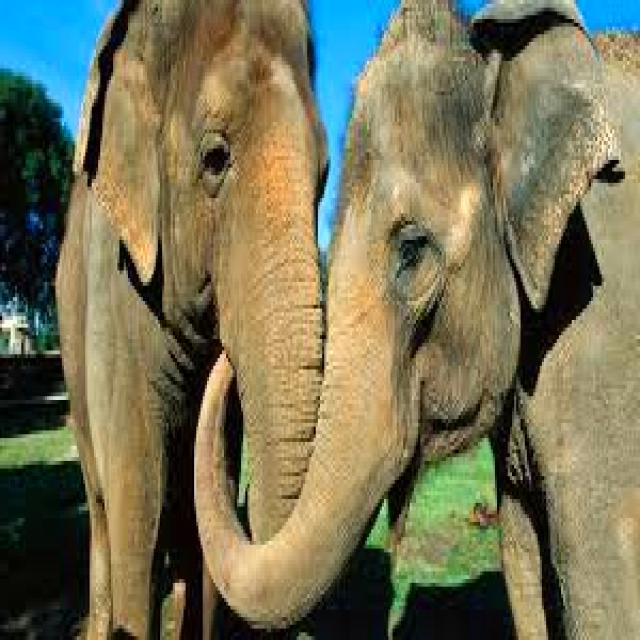elephant: (196, 0, 640, 636), (58, 0, 329, 636)
